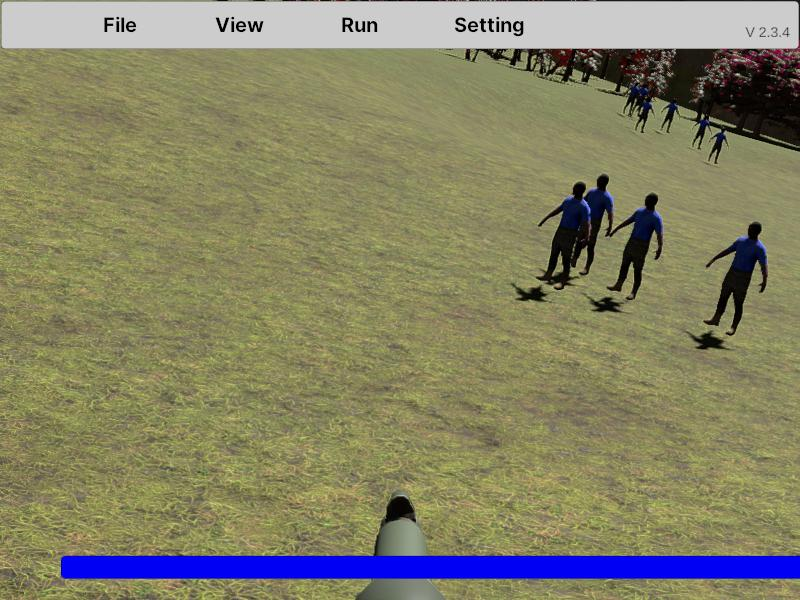Human: (704, 222, 768, 337), (606, 194, 664, 301), (537, 182, 593, 289), (569, 175, 614, 281)
